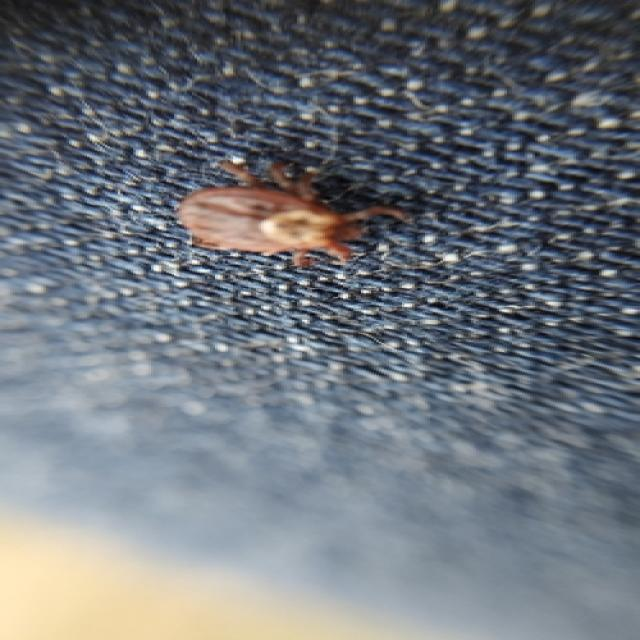Dermacentor Reticulatus-F: (177, 160, 404, 269)
